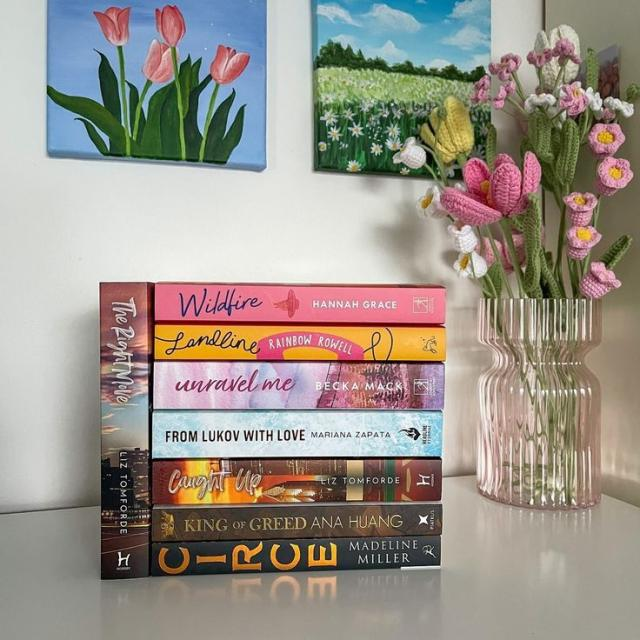book: (100, 283, 153, 577), (154, 360, 444, 410), (152, 410, 443, 458), (152, 458, 440, 504), (155, 284, 445, 324), (150, 536, 440, 576), (155, 323, 445, 361), (153, 503, 442, 541)
flowers: (394, 25, 639, 509)
